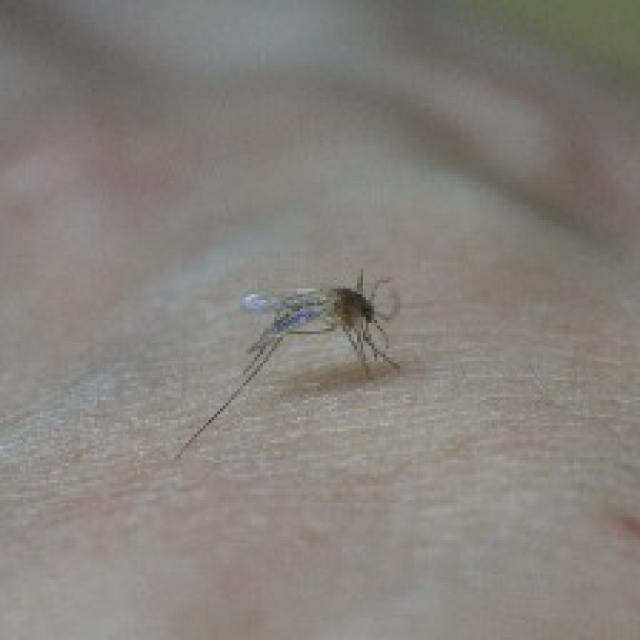culex: (171, 266, 400, 460)
